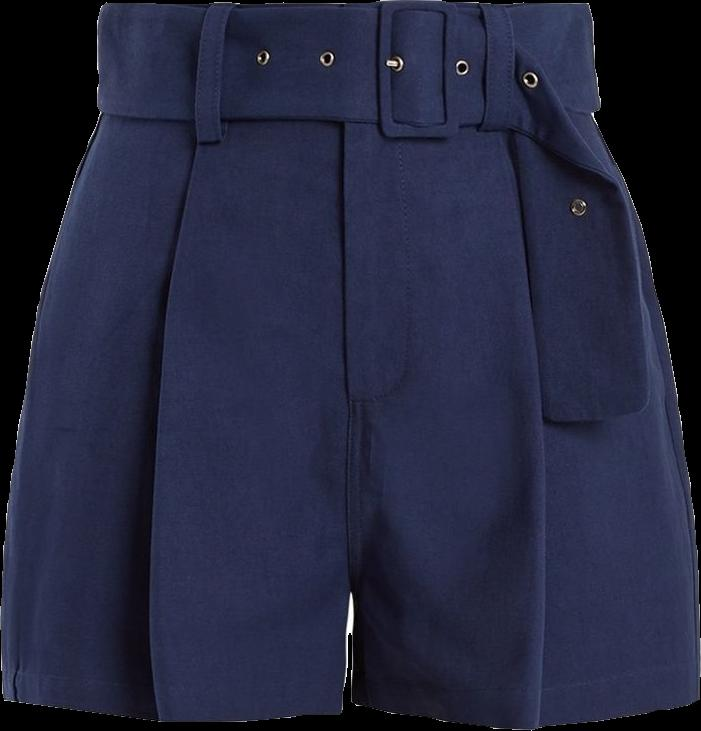Hemline: (350, 693, 700, 728), (2, 692, 344, 722)
Pantleg: (337, 0, 699, 728), (1, 3, 348, 721)
Waistline: (97, 105, 599, 128), (101, 0, 588, 14)
